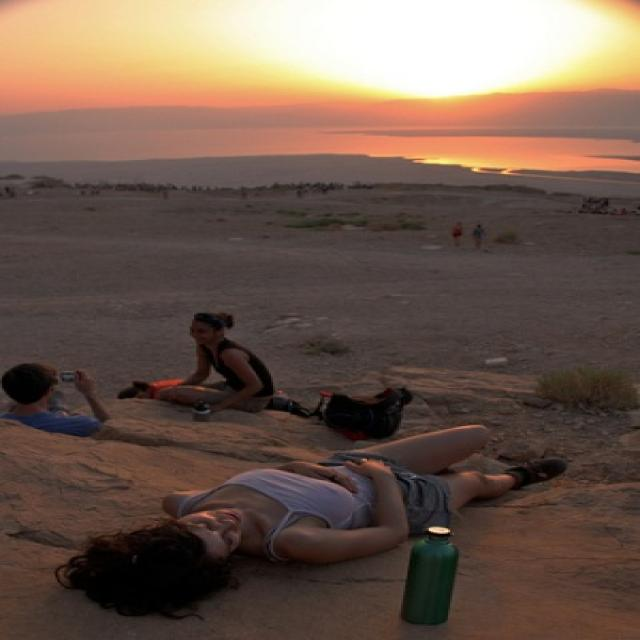Bottle: (410, 519, 486, 625)
People: (22, 409, 580, 626), (152, 279, 301, 448), (1, 357, 205, 475)
